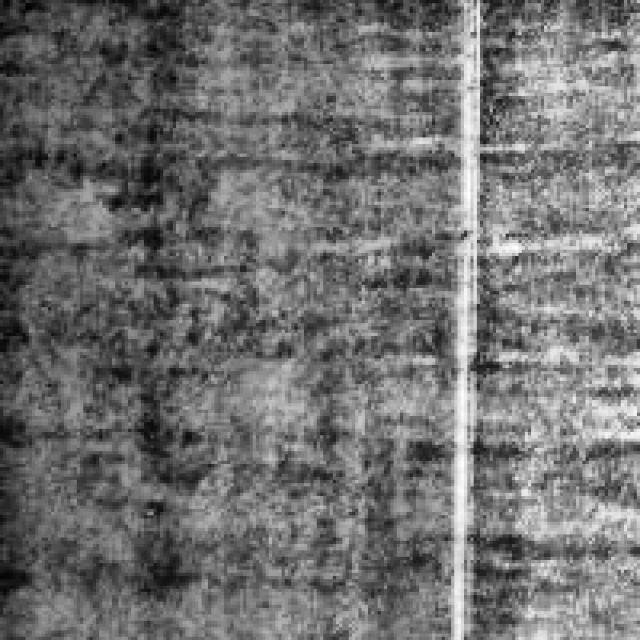Inclusion: (442, 0, 484, 634)
